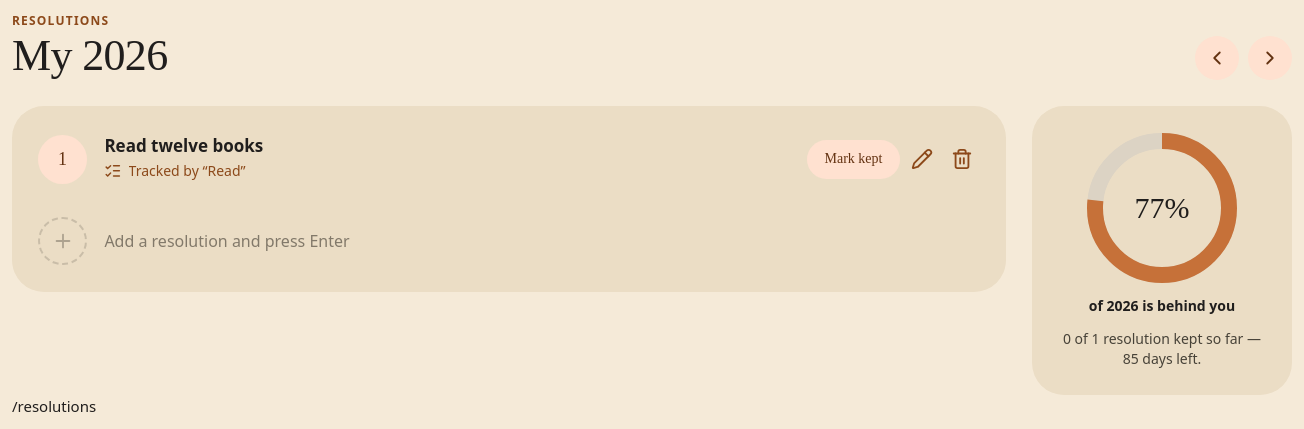
Test case: the year › asks the server again when the screen is opened, so a habit renamed elsewhere shows as it is now
Expected: the link "Tracked by “Read”" is shown, [104,161,246,181]
Click the button named "Next year" at (1270, 58), box [1248,36,1292,80]
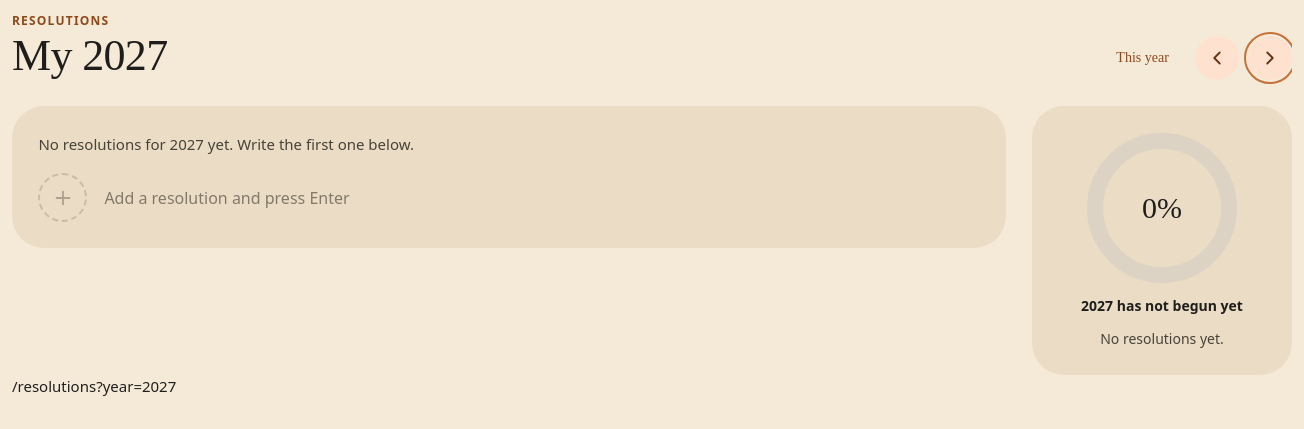
Expected: the text "No resolutions for 2027 yet. Write the first one below." is shown, [38,134,414,154]
Click the button "This year" at (1143, 58), box [1099,38,1186,78]
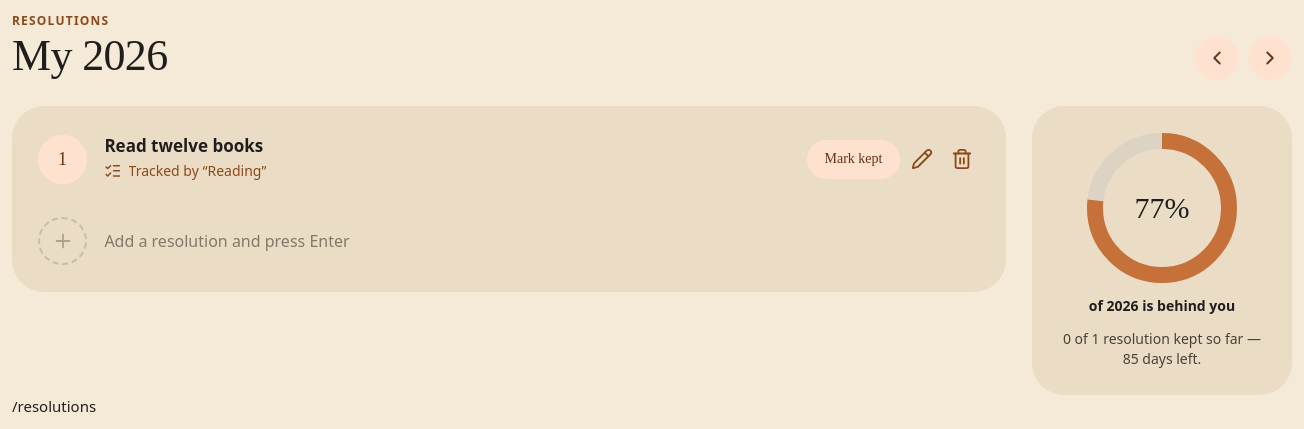
Expected: the link "Tracked by “Reading”" is shown, [104,161,266,181]
